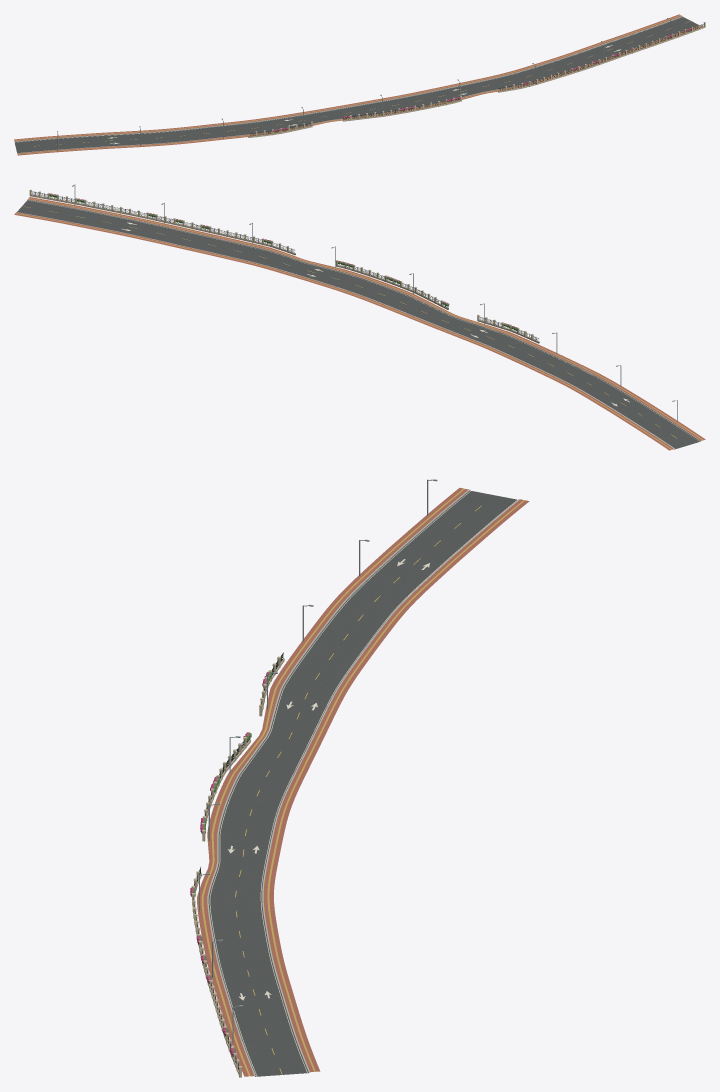
The model's file is infra-road-07.glb.
The picture shows the model from 3 angles, top to bottom: view 1: azimuth 30°, elevation 25°; view 2: azimuth 150°, elevation 25°; view 3: azimuth 270°, elevation 25°; orthographic projection. The views are drawn at different scales.
Visible parts, largest first — view 1: infra-road-07; view 2: infra-road-07; view 3: infra-road-07.
Boxes of the visible parts, x1=… form: infra-road-07: x1=14, y1=14, x2=705, y2=155; infra-road-07: x1=14, y1=184, x2=705, y2=450; infra-road-07: x1=190, y1=479, x2=529, y2=1077.
Bounding box in the file's own units: 266 × 12.95 × 61.71.
12 materials, 1 textured.
